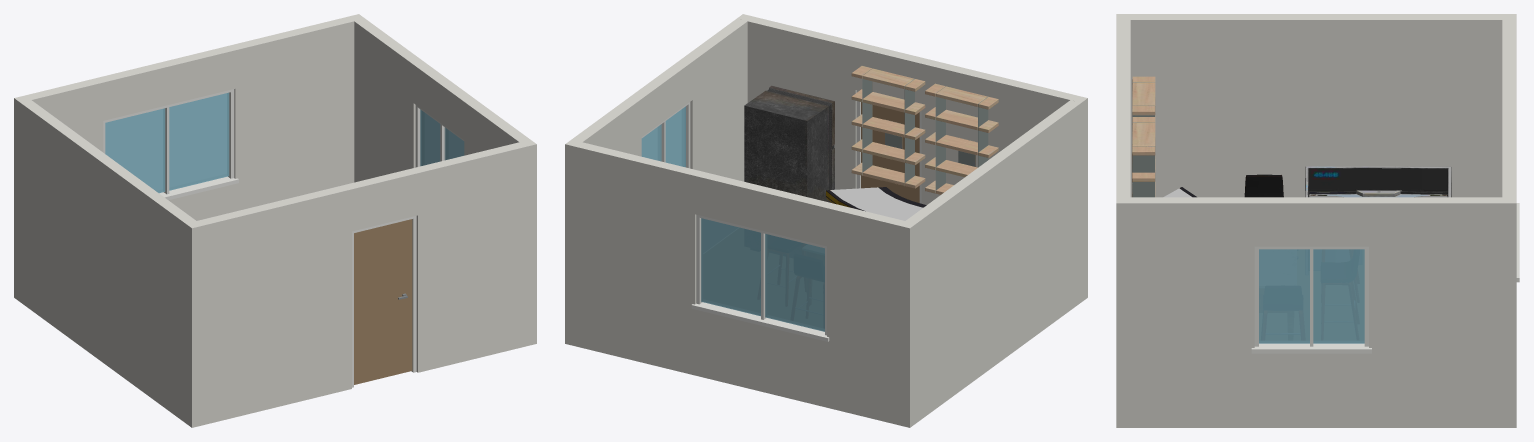
File: holodeck.glb
The picture shows the model from 3 angles, left to right: view 1: azimuth 30°, elevation 25°; view 2: azimuth 150°, elevation 25°; view 3: azimuth 270°, elevation 25°; orthographic projection. The views are drawn at different scales.
Visible parts, largest first — view 1: wall|scenesmith_073__R00|0, wall|scenesmith_073__R00|2, wall|scenesmith_073__R00|1, wall|scenesmith_073__R00|3, wall|scenesmith_073__R00|0 Door 0 | wood leaf, wall|scenesmith_073__R00|1 Window 0 | glazing, wall|scenesmith_073__R00|1 Window 0 | jamb, wall|scenesmith_073__R00|3 Window 0 | glazing, wall|scenesmith_073__R00|0 Door 0 | jamb, wall|scenesmith_073__R00|3 Window 0 | jamb; view 2: wall|scenesmith_073__R00|1, wall|scenesmith_073__R00|2, wall|scenesmith_073__R00|0, wall|scenesmith_073__R00|3, scenesmith_073__R00_8, wall|scenesmith_073__R00|1 Window 0 | glazing, scenesmith_073__R00_2, wall|scenesmith_073__R00|1 Window 0 | jamb, scenesmith_073__R00_0, wall|scenesmith_073__R00|0 Door 0 | wood leaf, wall|scenesmith_073__R00|3 Window 0 | glazing, wall|scenesmith_073__R00|3 Window 0 | jamb (+1 smaller); view 3: wall|scenesmith_073__R00|3, wall|scenesmith_073__R00|2, wall|scenesmith_073__R00|3 Window 0 | glazing, scenesmith_073__R00_1, wall|scenesmith_073__R00|3 Window 0 | jamb, scenesmith_073__R00_8, wall|scenesmith_073__R00|0, wall|scenesmith_073__R00|1, scenesmith_073__R00_4.
Part boxes in pixels (<box>): wall|scenesmith_073__R00|0: <box>186,139,536,425</box>; wall|scenesmith_073__R00|2: <box>14,95,202,427</box>; wall|scenesmith_073__R00|1: <box>14,14,364,301</box>; wall|scenesmith_073__R00|3: <box>354,18,536,346</box>; wall|scenesmith_073__R00|0 Door 0 | wood leaf: <box>354,219,412,384</box>; wall|scenesmith_073__R00|1 Window 0 | glazing: <box>105,92,229,193</box>; wall|scenesmith_073__R00|1 Window 0 | jamb: <box>103,89,238,200</box>; wall|scenesmith_073__R00|3 Window 0 | glazing: <box>420,109,464,166</box>; wall|scenesmith_073__R00|0 Door 0 | jamb: <box>352,216,416,387</box>; wall|scenesmith_073__R00|3 Window 0 | jamb: <box>415,105,464,167</box>; wall|scenesmith_073__R00|1: <box>565,139,916,427</box>; wall|scenesmith_073__R00|2: <box>899,98,1087,427</box>; wall|scenesmith_073__R00|0: <box>737,14,1087,204</box>; wall|scenesmith_073__R00|3: <box>565,18,747,346</box>; scenesmith_073__R00_8: <box>851,66,998,194</box>; wall|scenesmith_073__R00|1 Window 0 | glazing: <box>701,218,824,331</box>; scenesmith_073__R00_2: <box>744,85,834,203</box>; wall|scenesmith_073__R00|1 Window 0 | jamb: <box>691,214,829,341</box>; scenesmith_073__R00_0: <box>826,187,926,220</box>; wall|scenesmith_073__R00|0 Door 0 | wood leaf: <box>861,102,919,202</box>; wall|scenesmith_073__R00|3 Window 0 | glazing: <box>641,106,685,167</box>; wall|scenesmith_073__R00|3 Window 0 | jamb: <box>641,102,690,168</box>; wall|scenesmith_073__R00|3: <box>1116,197,1516,427</box>; wall|scenesmith_073__R00|2: <box>1130,14,1516,197</box>; wall|scenesmith_073__R00|3 Window 0 | glazing: <box>1259,249,1364,343</box>; scenesmith_073__R00_1: <box>1305,166,1451,197</box>; wall|scenesmith_073__R00|3 Window 0 | jamb: <box>1251,246,1371,353</box>; scenesmith_073__R00_8: <box>1132,76,1155,197</box>; wall|scenesmith_073__R00|0: <box>1116,14,1130,203</box>; wall|scenesmith_073__R00|1: <box>1502,20,1516,203</box>; scenesmith_073__R00_4: <box>1244,174,1283,197</box>.
Bounding box in the file's own units: 4.73 × 2.61 × 4.23.
12 materials, 6 textured.
